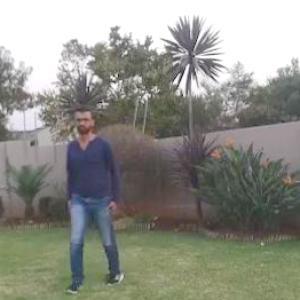follow: (64, 104, 111, 268)
